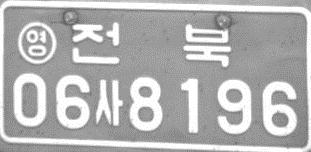0: (11, 72, 47, 128)
1: (173, 77, 211, 134)
6: (261, 80, 299, 137), (54, 74, 90, 130)
8: (127, 75, 163, 132)
9: (215, 78, 252, 136)
사: (94, 78, 123, 126)
영: (16, 21, 57, 64)
전북_D: (69, 22, 232, 67)
